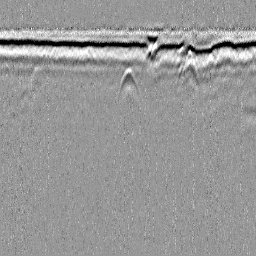cavity: (116, 67, 142, 102)
